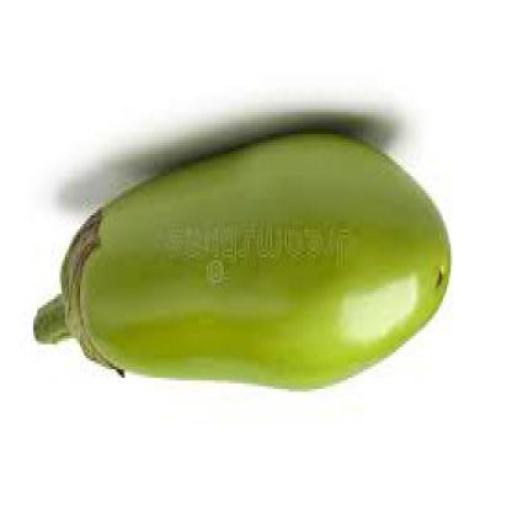biodegradable: (36, 128, 454, 390)
